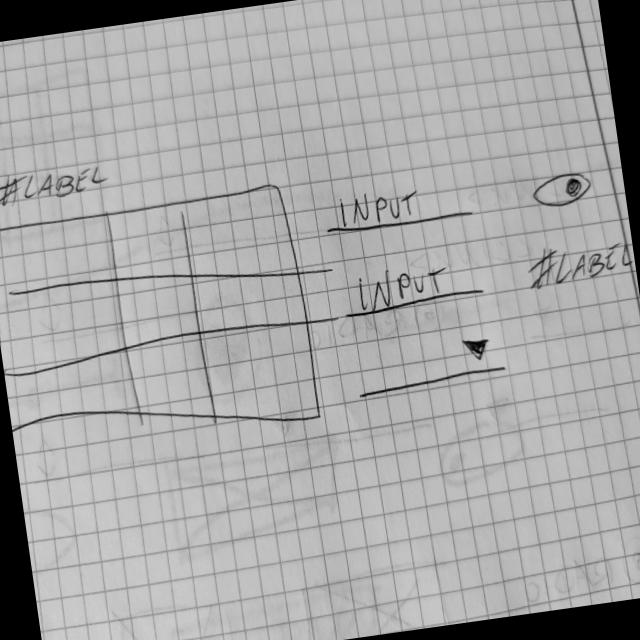input: (321, 174, 475, 240), (338, 254, 487, 322)
label: (524, 234, 636, 292), (0, 160, 112, 212)
select: (352, 331, 509, 402)
table: (0, 182, 322, 461)
toggle: (529, 168, 596, 212)
